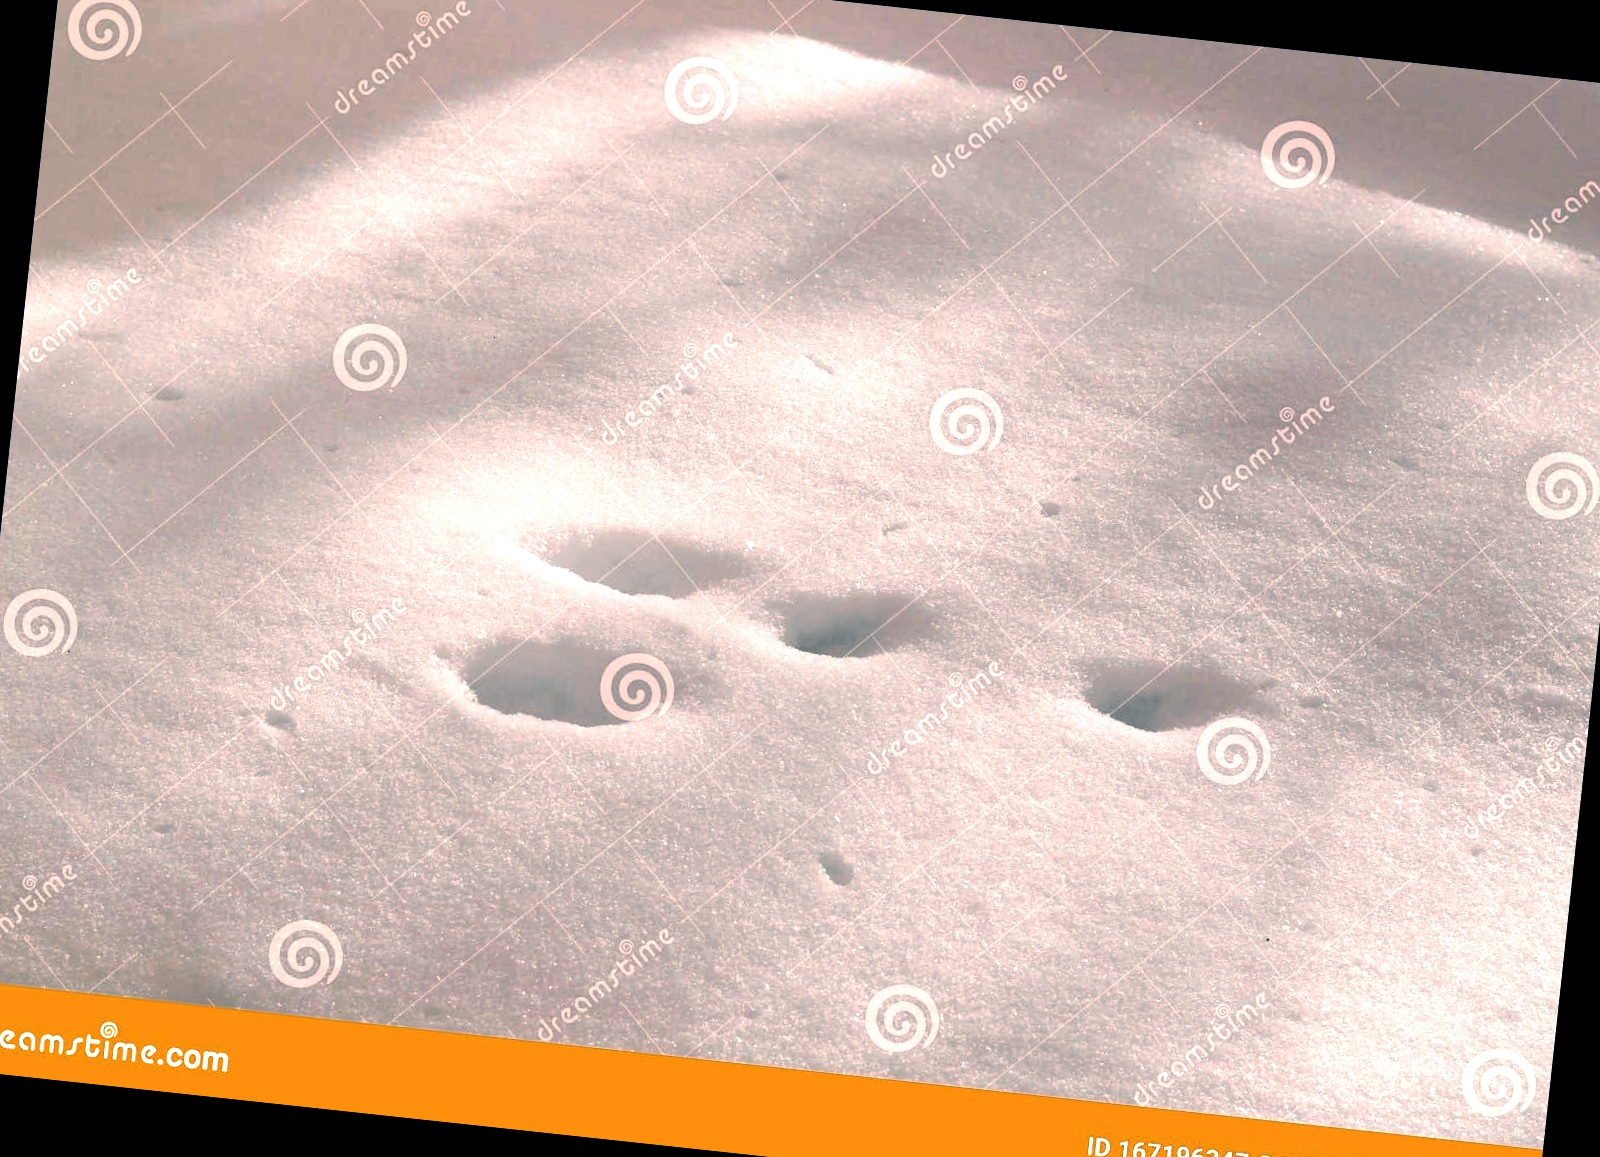lapin: (435, 639, 754, 767), (1075, 601, 1316, 729), (496, 527, 781, 625), (765, 583, 961, 657)
